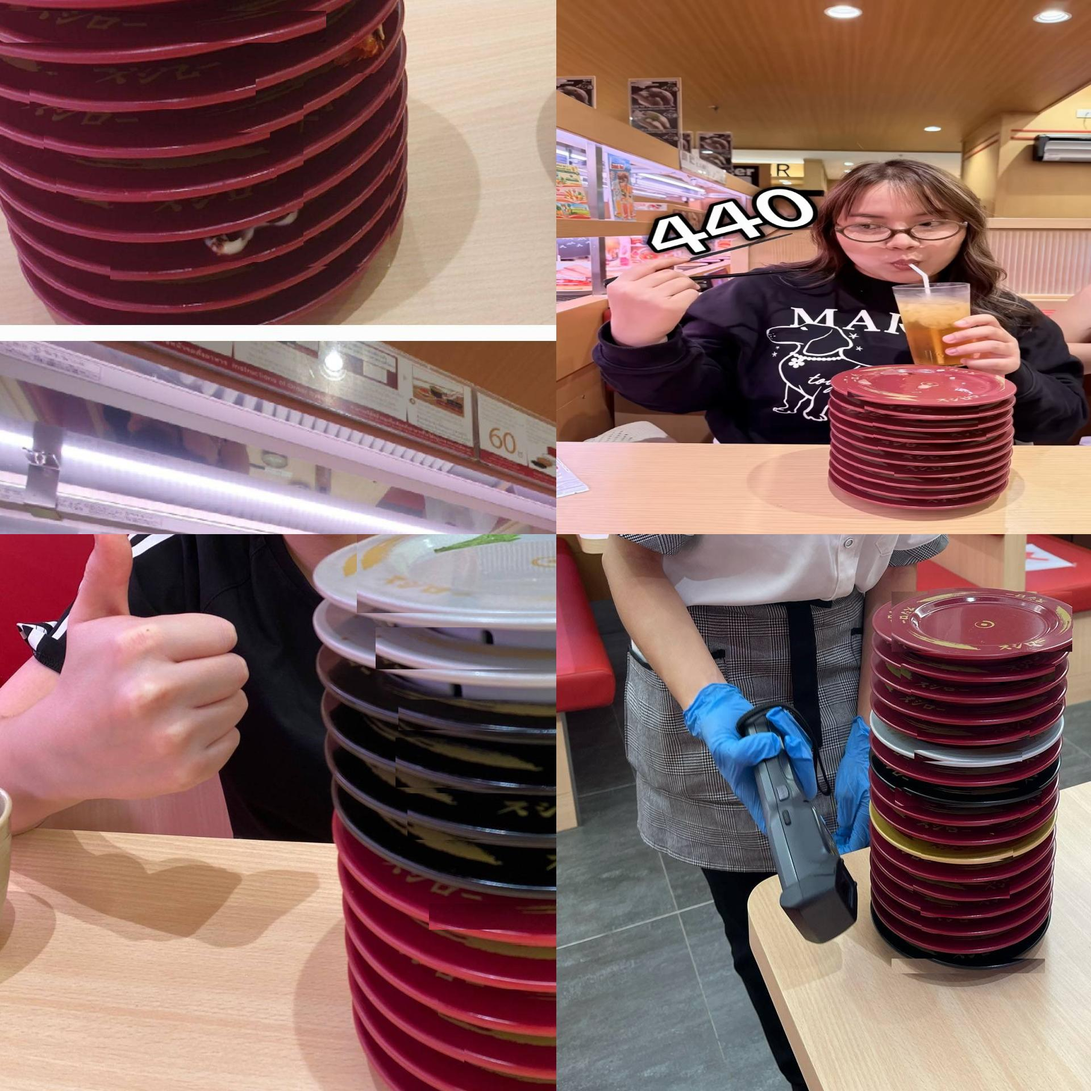Janback: (385, 736, 556, 789), (401, 792, 556, 841), (381, 698, 556, 732), (435, 847, 556, 882), (888, 787, 1049, 807), (884, 958, 1053, 975)
Jangold: (916, 848, 1020, 861)
Janred: (303, 71, 391, 269), (883, 589, 1082, 655), (0, 9, 344, 44), (18, 70, 268, 111), (52, 166, 281, 200), (413, 943, 556, 990), (37, 132, 277, 160), (69, 214, 269, 241), (407, 901, 556, 932), (435, 997, 556, 1035), (97, 260, 284, 283), (453, 1046, 556, 1081), (896, 664, 1060, 683), (891, 703, 1040, 723), (85, 295, 276, 310), (908, 689, 1061, 704), (906, 883, 1017, 900), (908, 729, 1039, 741), (905, 868, 1025, 881), (893, 772, 1040, 782), (913, 905, 1016, 919), (916, 812, 1022, 825), (917, 923, 1019, 934), (921, 940, 1014, 952), (919, 830, 1024, 838)
Janwhite: (339, 534, 556, 618), (358, 625, 556, 672), (905, 749, 1032, 763)
